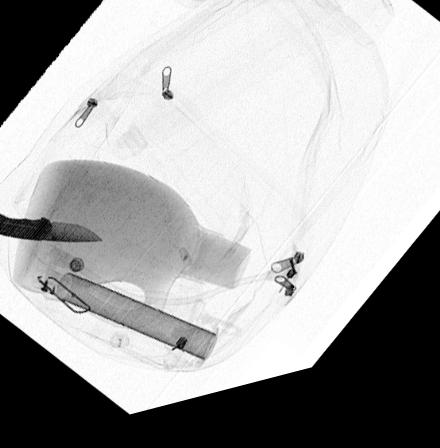Knife: (0, 213, 105, 246)
